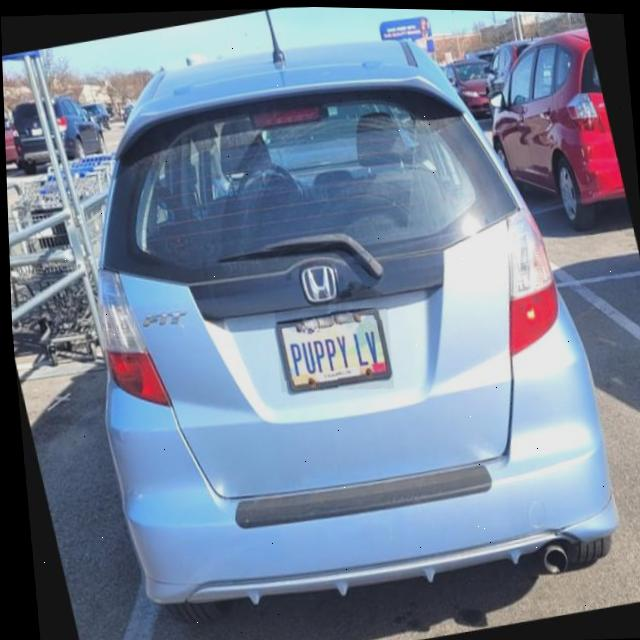LicensePlate: (274, 306, 390, 390)
